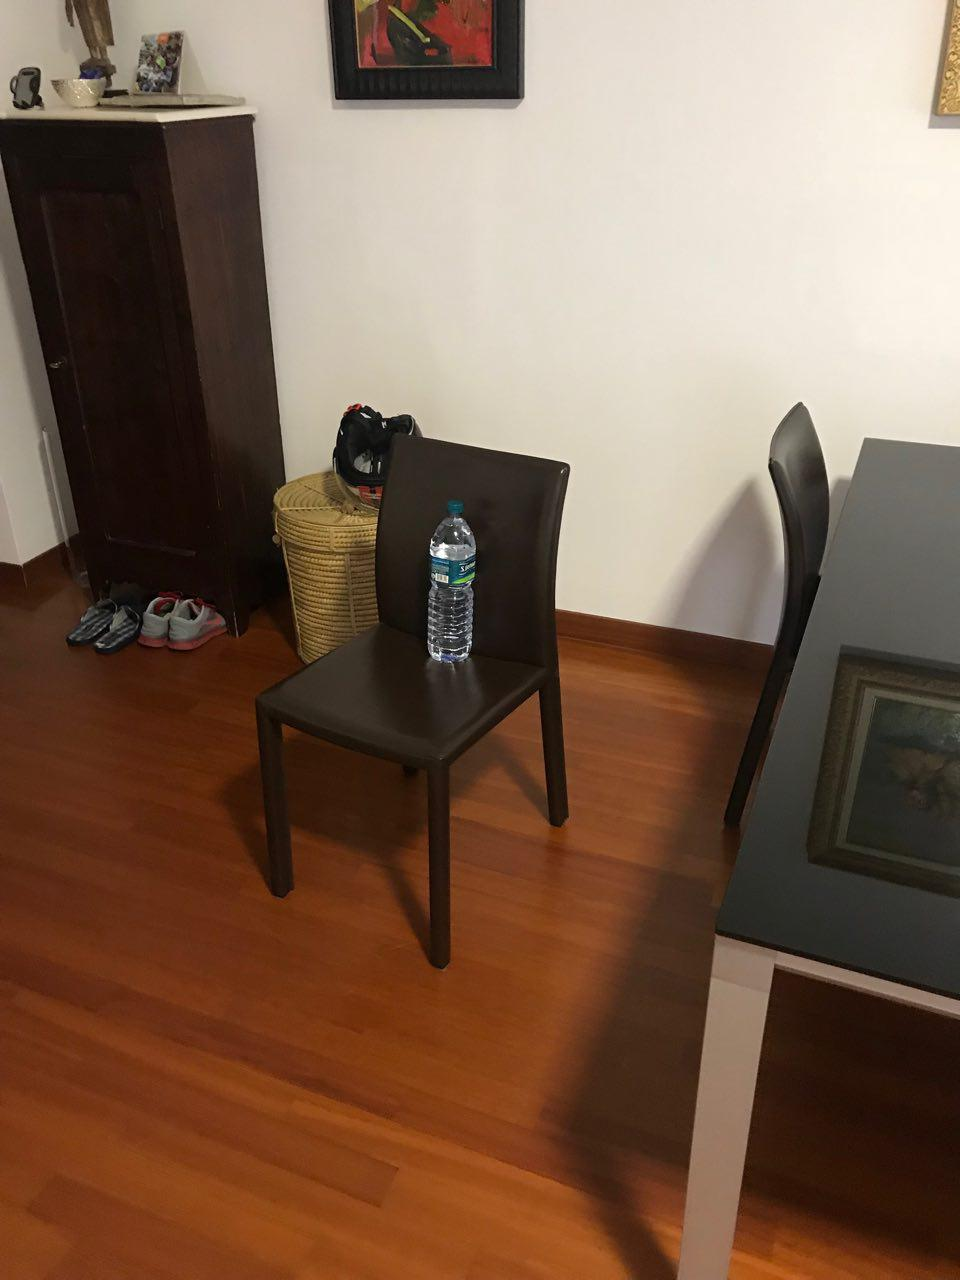san_bernardo: (427, 499, 477, 664)
